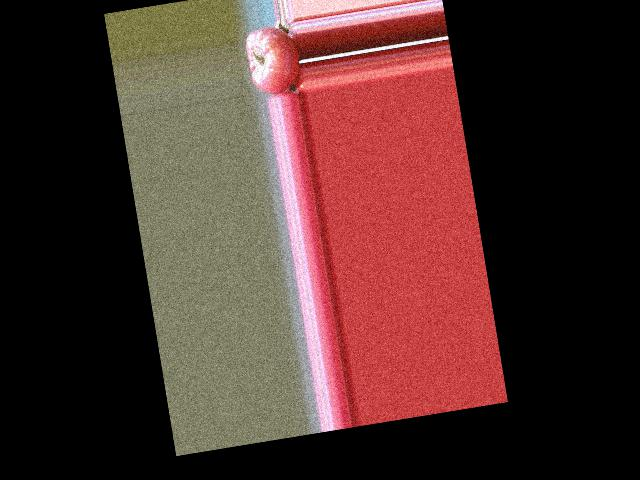tomato: (243, 23, 304, 98)
